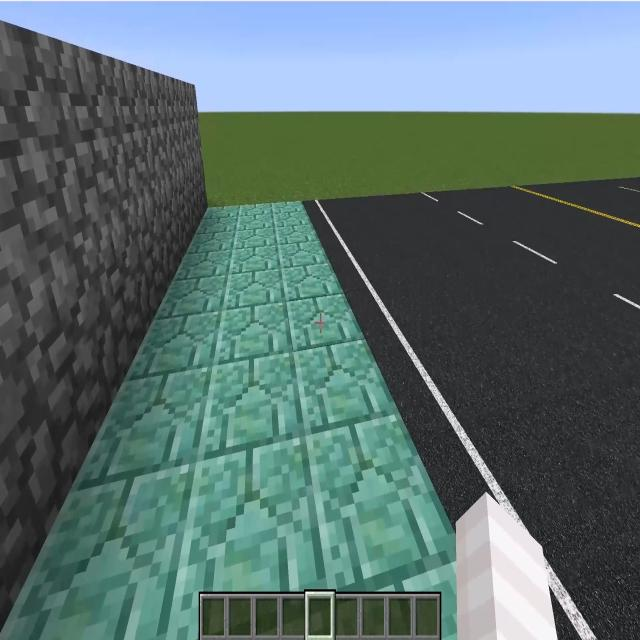road: (306, 179, 640, 639)
sidewalk: (0, 204, 459, 639)
